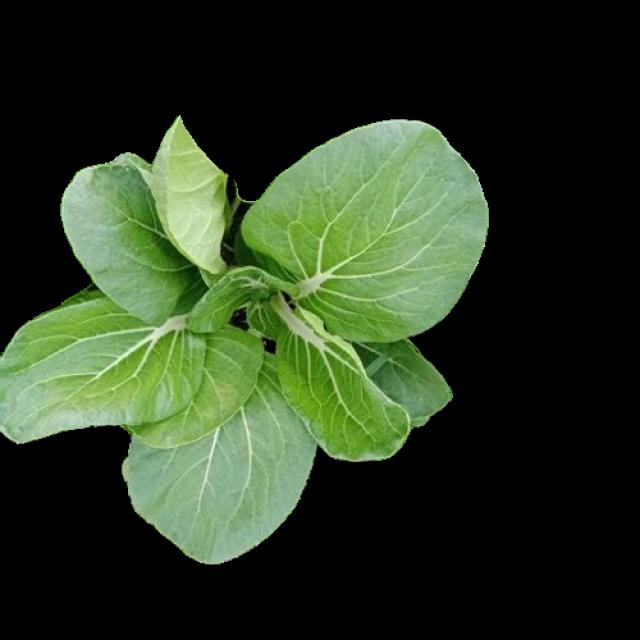healthy: (1, 118, 486, 558)
mature: (4, 120, 489, 561)
